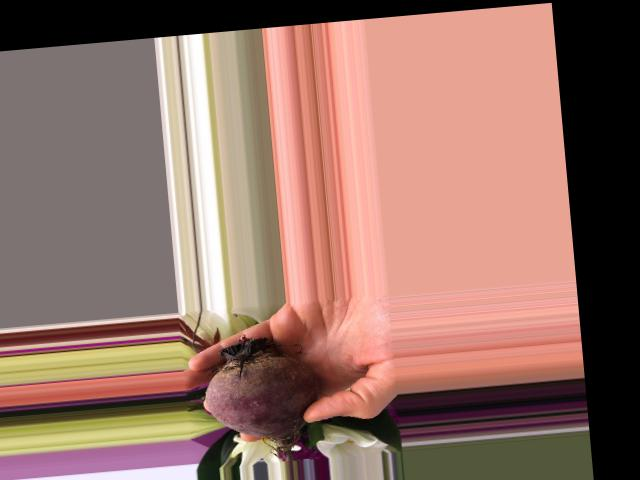beet: (199, 328, 324, 468)
